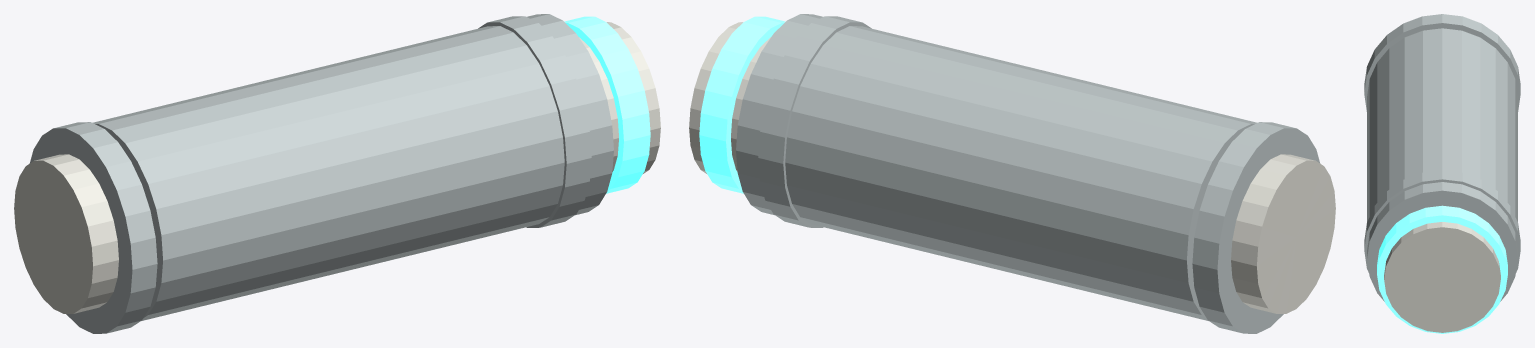
The model's file is s7-i04-threaded.glb.
3 views of the same model, side by side, from view 1: azimuth 30°, elevation 25°; view 2: azimuth 150°, elevation 25°; view 3: azimuth 270°, elevation 25° (orthographic). The views are drawn at different scales.
Visible parts, largest first — view 1: 000_coupling_barrel, 001_left_interface_sealing_socket, 003_left_interface_locking_collar, 009_right_interface_locking_collar, 008_right_interface_cyan_snap_seal, 007_right_interface_sealing_socket; view 2: 000_coupling_barrel, 001_left_interface_sealing_socket, 003_left_interface_locking_collar, 009_right_interface_locking_collar, 008_right_interface_cyan_snap_seal, 007_right_interface_sealing_socket; view 3: 000_coupling_barrel, 007_right_interface_sealing_socket, 008_right_interface_cyan_snap_seal, 003_left_interface_locking_collar, 009_right_interface_locking_collar.
Boxes of the visible parts, x1,y1,x2,y2 form: 000_coupling_barrel: (92,14,613,320); 001_left_interface_sealing_socket: (14,154,118,313); 003_left_interface_locking_collar: (29,122,157,333); 009_right_interface_locking_collar: (478,16,591,227); 008_right_interface_cyan_snap_seal: (564,16,650,193); 007_right_interface_sealing_socket: (579,22,660,173); 000_coupling_barrel: (736,14,1257,320); 001_left_interface_sealing_socket: (1231,154,1335,313); 003_left_interface_locking_collar: (1192,122,1320,333); 009_right_interface_locking_collar: (758,16,871,227); 008_right_interface_cyan_snap_seal: (699,16,785,193); 007_right_interface_sealing_socket: (689,22,770,173); 000_coupling_barrel: (1367,28,1517,301); 007_right_interface_sealing_socket: (1384,222,1500,332); 008_right_interface_cyan_snap_seal: (1377,205,1507,333); 003_left_interface_locking_collar: (1364,14,1520,111); 009_right_interface_locking_collar: (1364,170,1520,272).
Bounding box in the file's own units: 0.34 × 0.11 × 0.11.
